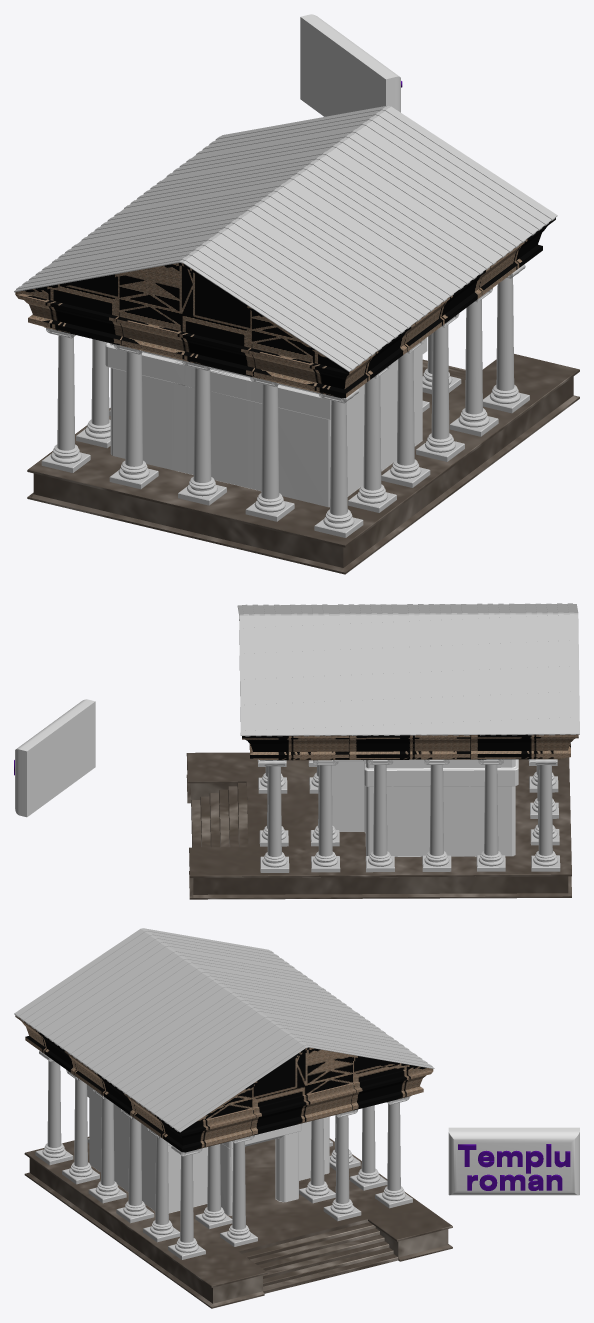
File: Temple.fbx
3 views of the same model, one above another, from view 1: azimuth 30°, elevation 25°; view 2: azimuth 150°, elevation 25°; view 3: azimuth 270°, elevation 25° (orthographic). The views are drawn at different scales.
Visible parts, largest first — view 1: Main_Temple.003, Main_Temple.001, Main_Temple, Main_Temple.004, Main_Temple.002, Cube.002; view 2: Main_Temple.003, Main_Temple, Main_Temple.001, Main_Temple.002, Main_Temple.004, Cube.002; view 3: Main_Temple.003, Main_Temple, Main_Temple.001, Main_Temple.004, Main_Temple.002, Cube.002, Text.002.
Boxes of the visible parts, x1=… form: Main_Temple.003: x1=14, y1=105, x2=557, y2=371; Main_Temple.001: x1=41, y1=264, x2=529, y2=537; Main_Temple: x1=27, y1=354, x2=579, y2=574; Main_Temple.004: x1=15, y1=217, x2=555, y2=398; Main_Temple.002: x1=105, y1=337, x2=427, y2=507; Cube.002: x1=300, y1=14, x2=400, y2=116; Main_Temple.003: x1=237, y1=603, x2=579, y2=736; Main_Temple: x1=186, y1=752, x2=571, y2=899; Main_Temple.001: x1=257, y1=759, x2=560, y2=872; Main_Temple.002: x1=332, y1=759, x2=518, y2=856; Main_Temple.004: x1=239, y1=619, x2=578, y2=760; Cube.002: x1=15, y1=699, x2=95, y2=817; Main_Temple.003: x1=14, y1=928, x2=434, y2=1132; Main_Temple: x1=24, y1=1136, x2=452, y2=1308; Main_Temple.001: x1=35, y1=1050, x2=412, y2=1259; Main_Temple.004: x1=15, y1=1015, x2=433, y2=1152; Main_Temple.002: x1=87, y1=1084, x2=329, y2=1215; Cube.002: x1=448, y1=1127, x2=579, y2=1195; Text.002: x1=458, y1=1144, x2=570, y2=1190.
Size of the model in its own units: 6.03 by 3.04 by 7.28.
